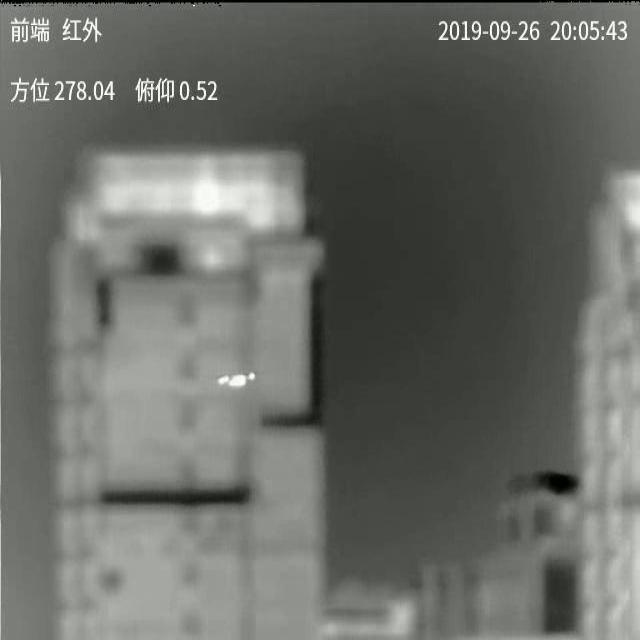drone: (218, 372, 256, 387)
